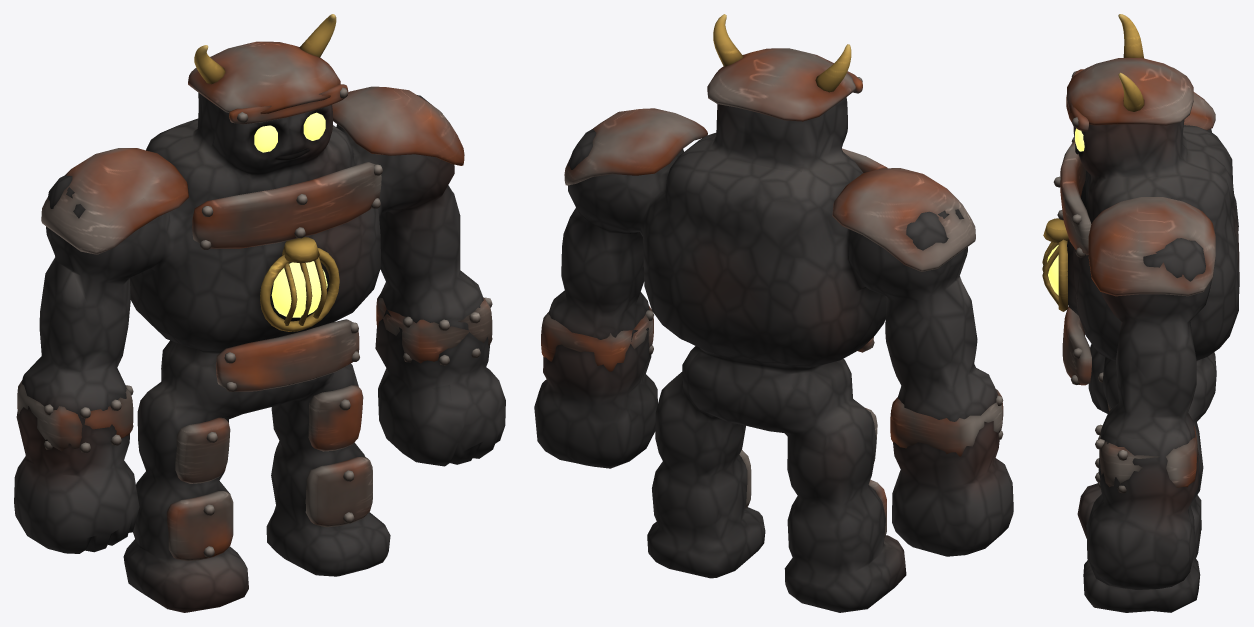
Rendered from irongolem.fbx.
The picture shows the model from 3 angles, left to right: view 1: azimuth 30°, elevation 25°; view 2: azimuth 150°, elevation 25°; view 3: azimuth 270°, elevation 25°; orthographic projection. The views are drawn at different scales.
Visible parts, largest first — view 1: IronGolem_Body, IronGolem_GLOW; view 2: IronGolem_Body; view 3: IronGolem_Body, IronGolem_GLOW.
Boxes of the visible parts, bbox=[...] form: IronGolem_Body: bbox=[14, 14, 505, 612]; IronGolem_GLOW: bbox=[254, 112, 327, 317]; IronGolem_Body: bbox=[534, 14, 1013, 612]; IronGolem_Body: bbox=[1042, 14, 1239, 612]; IronGolem_GLOW: bbox=[1047, 128, 1084, 295].
Bounding box in the file's own units: 3.13 × 3.58 × 1.21.
2 materials, 1 textured.
